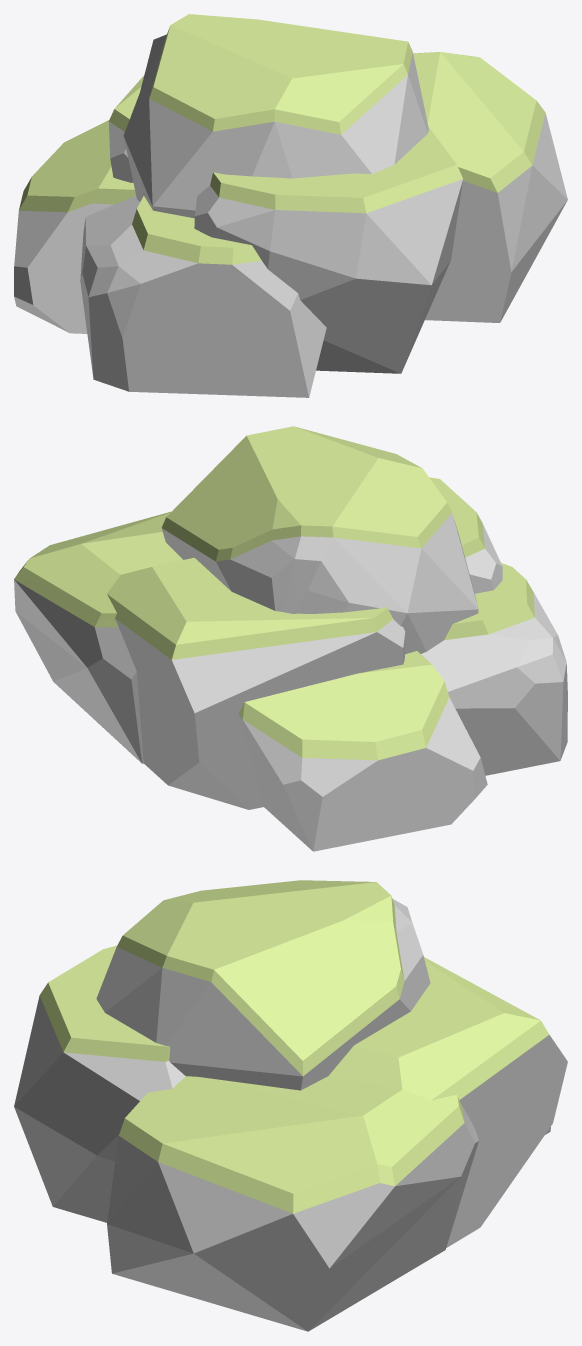
The model's file is rock_moss_grown_11.glb.
The picture shows the model from 3 angles, top to bottom: view 1: azimuth 30°, elevation 25°; view 2: azimuth 150°, elevation 25°; view 3: azimuth 270°, elevation 25°; orthographic projection. The views are drawn at different scales.
Visible parts, largest first — view 1: PP_Rock_Moss_Grown_11.002; view 2: PP_Rock_Moss_Grown_11.002; view 3: PP_Rock_Moss_Grown_11.002.
Boxes of the visible parts, left/top/right/bottom form: PP_Rock_Moss_Grown_11.002: left=14, top=14, right=567, bottom=397; PP_Rock_Moss_Grown_11.002: left=14, top=426, right=567, bottom=851; PP_Rock_Moss_Grown_11.002: left=14, top=880, right=567, bottom=1331.
Bounding box in the file's own units: 2.06 × 1.01 × 1.8.
